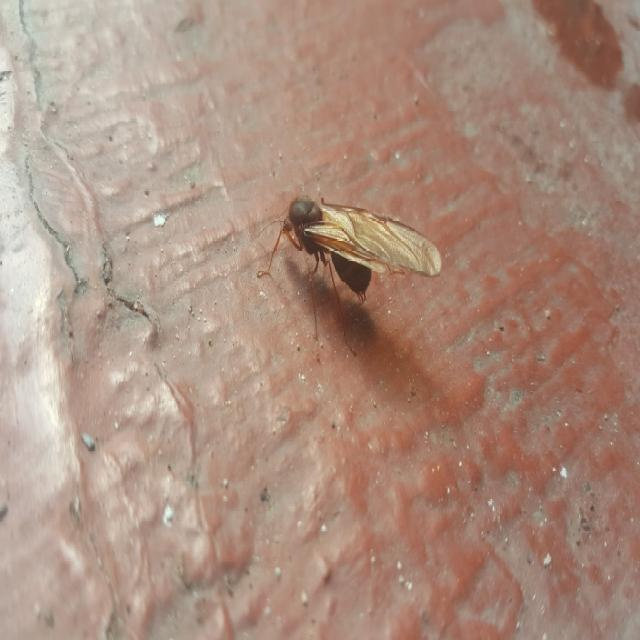Alive-Male-Alate: (256, 196, 442, 362)
